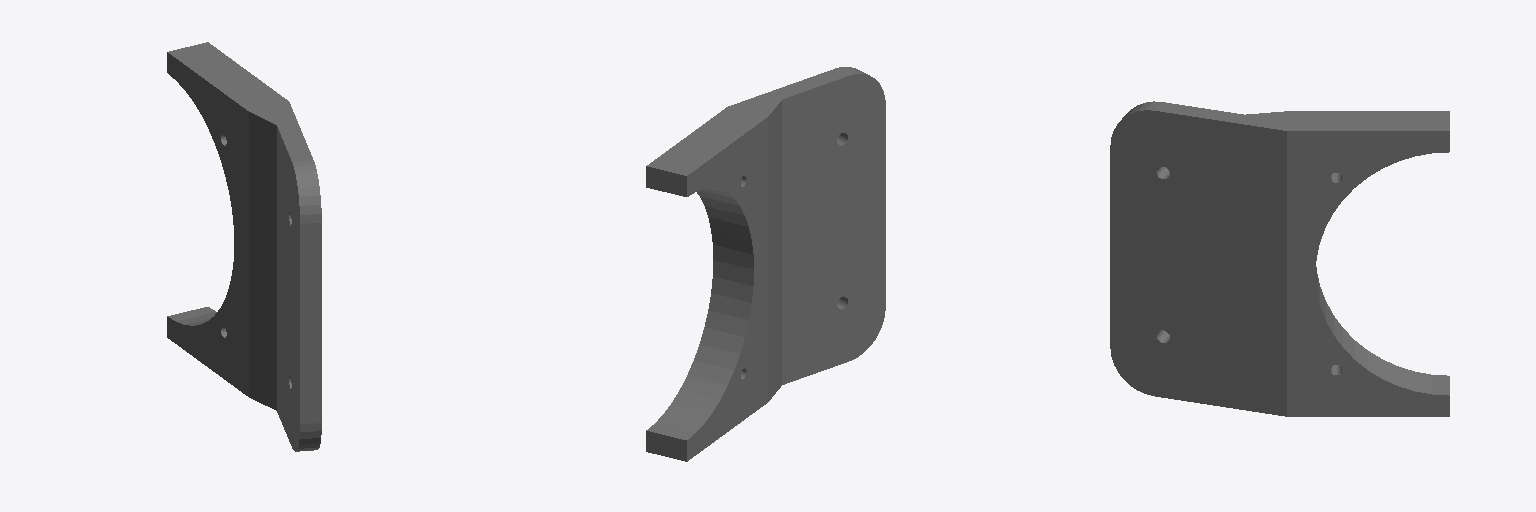
File: camera_base.obj
3 renders of one model, left to right at view 1: azimuth 30°, elevation 25°; view 2: azimuth 150°, elevation 25°; view 3: azimuth 270°, elevation 25°, orthographic.
Size of the model in its own units: 0.0181 by 0.067 by 0.0721.